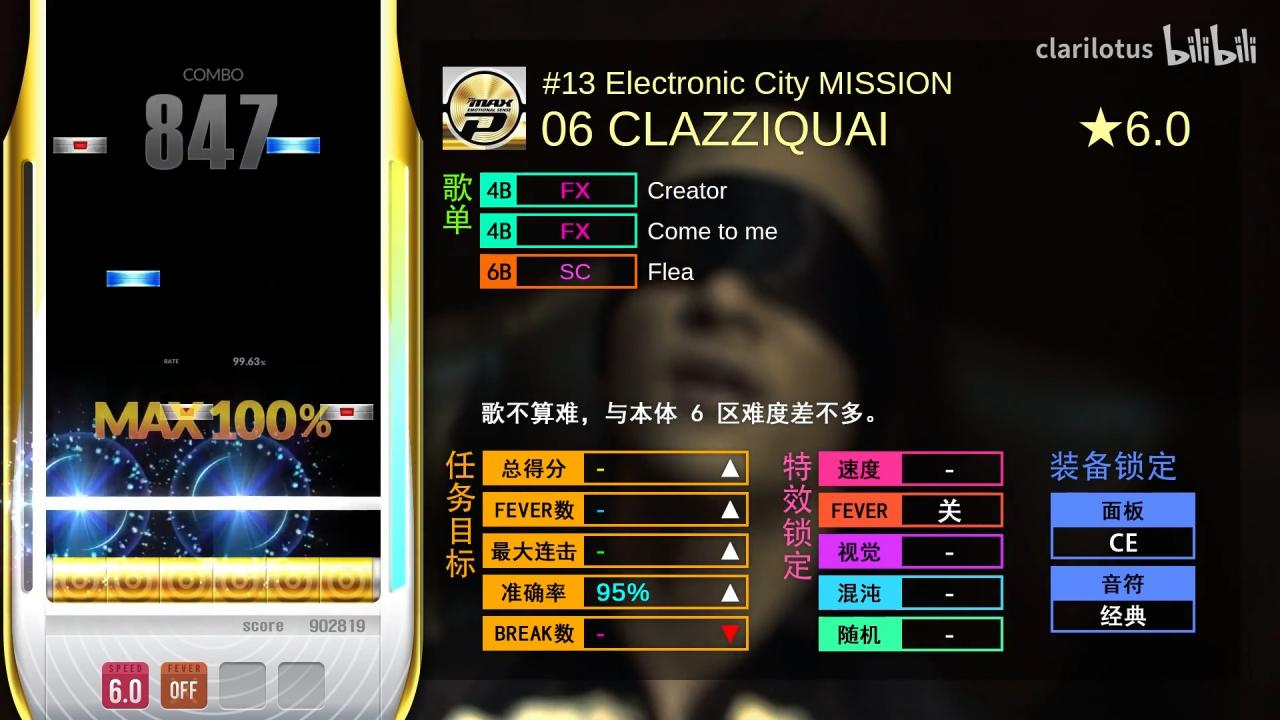note: (266, 136, 321, 154), (106, 270, 160, 287), (53, 137, 107, 153), (320, 404, 374, 420), (160, 404, 214, 420)
